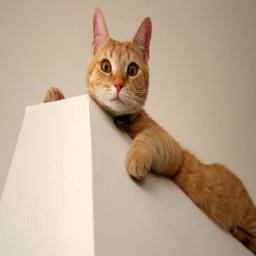catnose: (114, 82, 125, 94)
